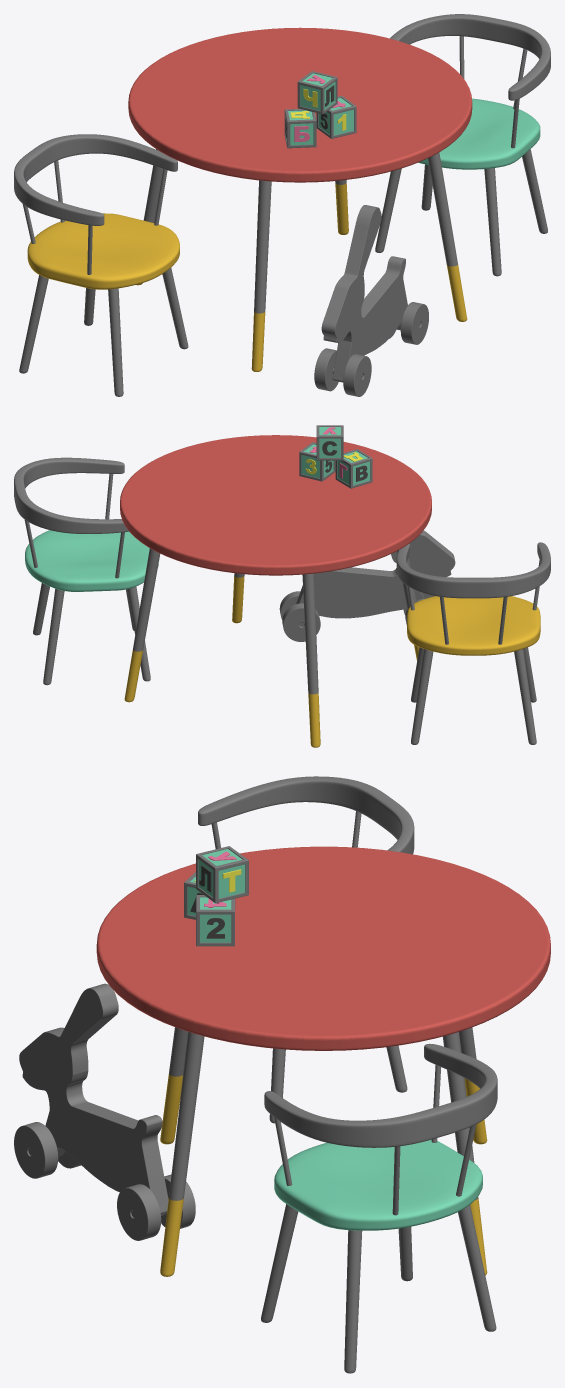
File: Children Set2.FBX
3 renders of one model, top to bottom at view 1: azimuth 30°, elevation 25°; view 2: azimuth 150°, elevation 25°; view 3: azimuth 270°, elevation 25°, orthographic. The views are drawn at different scales.
Visible parts, largest first — view 1: Table, Chair_1, Chair_2, Rabbit, Text016, Text010, Text001; view 2: Table, Chair_1, Chair_2, Rabbit, Text001, Text016, Text010; view 3: Table, Chair_2, Rabbit, Chair_1, Text016, Text010.
Boxes of the visible parts, left/top/right/bottom form: Table: left=128, top=27, right=472, bottom=371; Chair_1: left=14, top=134, right=188, bottom=396; Chair_2: left=375, top=14, right=550, bottom=276; Rabbit: left=314, top=205, right=428, bottom=396; Text016: left=297, top=71, right=337, bottom=114; Text010: left=316, top=95, right=356, bottom=138; Text001: left=284, top=109, right=316, bottom=148; Table: left=120, top=435, right=431, bottom=747; Chair_1: left=396, top=542, right=550, bottom=744; Chair_2: left=14, top=457, right=158, bottom=685; Rabbit: left=279, top=530, right=455, bottom=641; Text001: left=335, top=449, right=372, bottom=488; Text016: left=316, top=425, right=343, bottom=460; Text010: left=299, top=442, right=335, bottom=481; Table: left=96, top=846, right=550, bottom=1276; Chair_2: left=261, top=1043, right=497, bottom=1373; Rabbit: left=14, top=983, right=195, bottom=1240; Chair_1: left=198, top=776, right=414, bottom=1123; Text016: left=196, top=846, right=248, bottom=903; Text010: left=196, top=895, right=234, bottom=946.
Bounding box in the file's own units: 1281 × 575 × 828.
